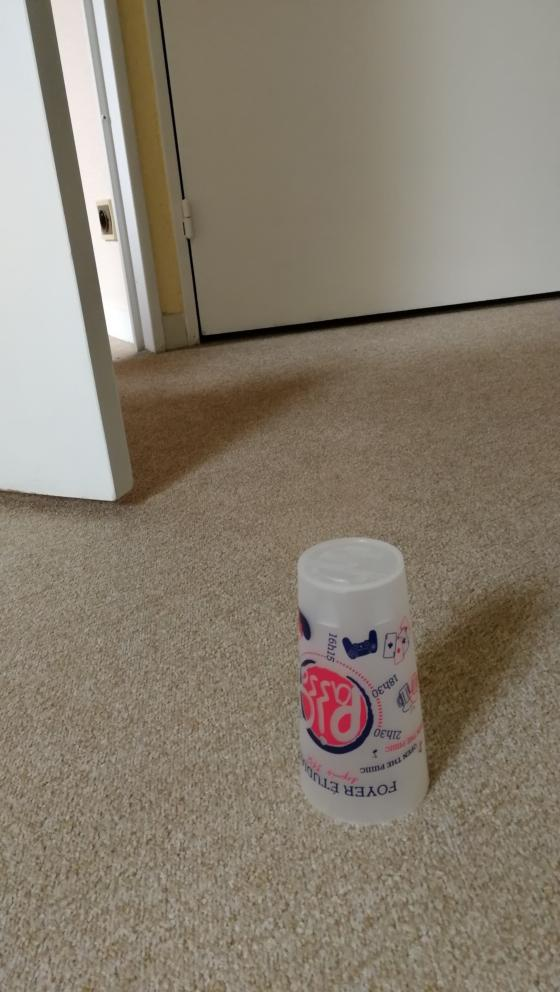ecocup: (295, 536, 430, 824)
